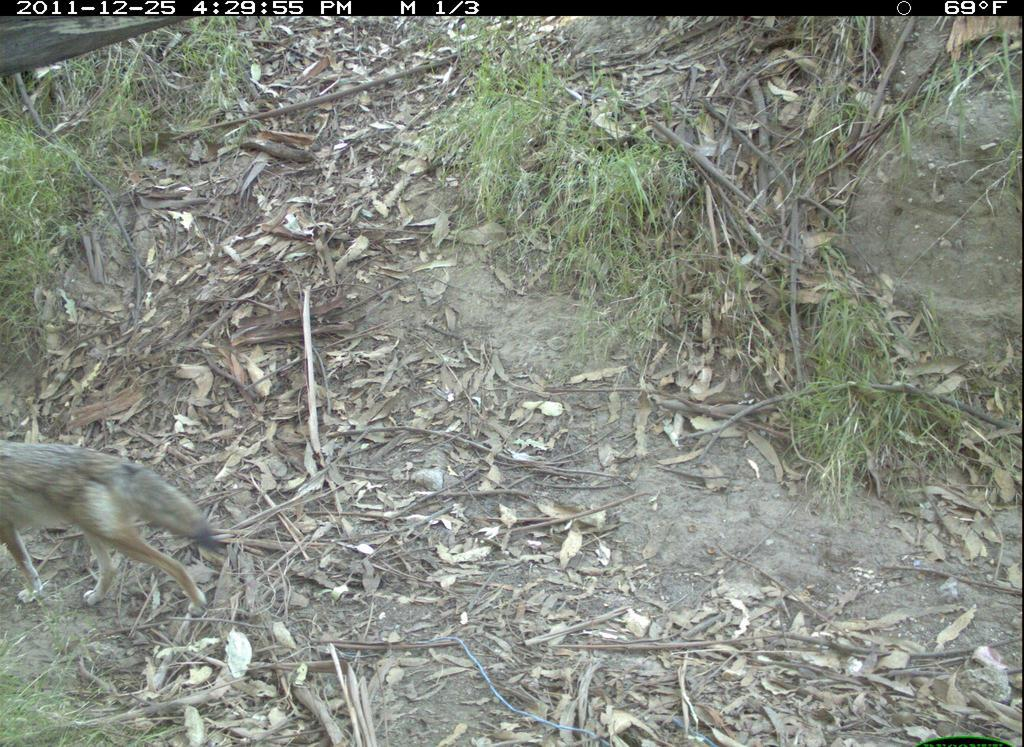coyote: (1, 429, 221, 611)
